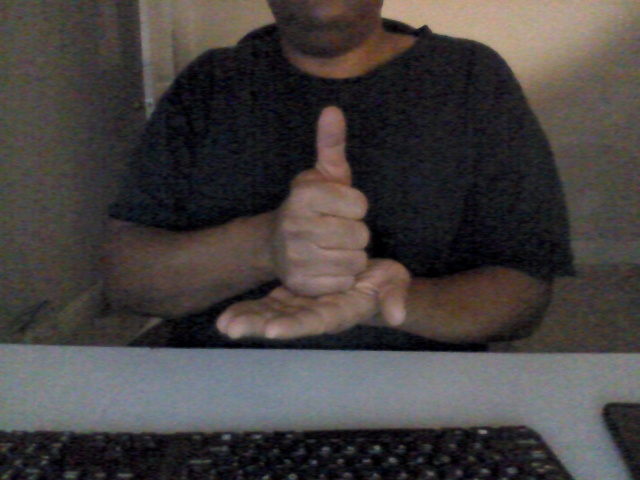help: (212, 100, 412, 345)
